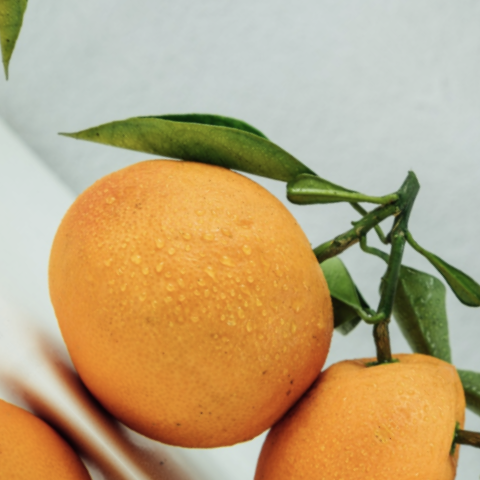orange: (0, 56, 432, 480)
